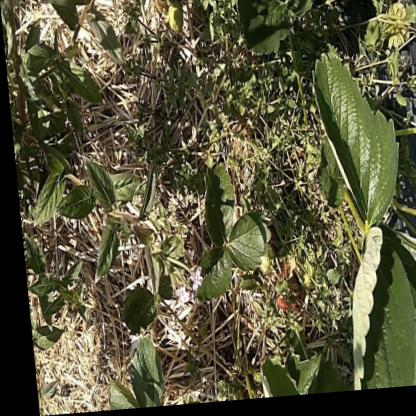ripe: (264, 270, 297, 319)
